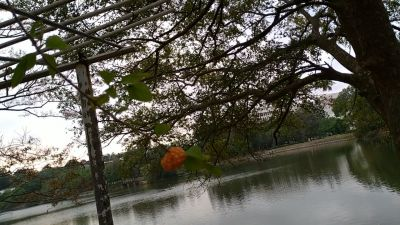eggs: (159, 146, 188, 172)
